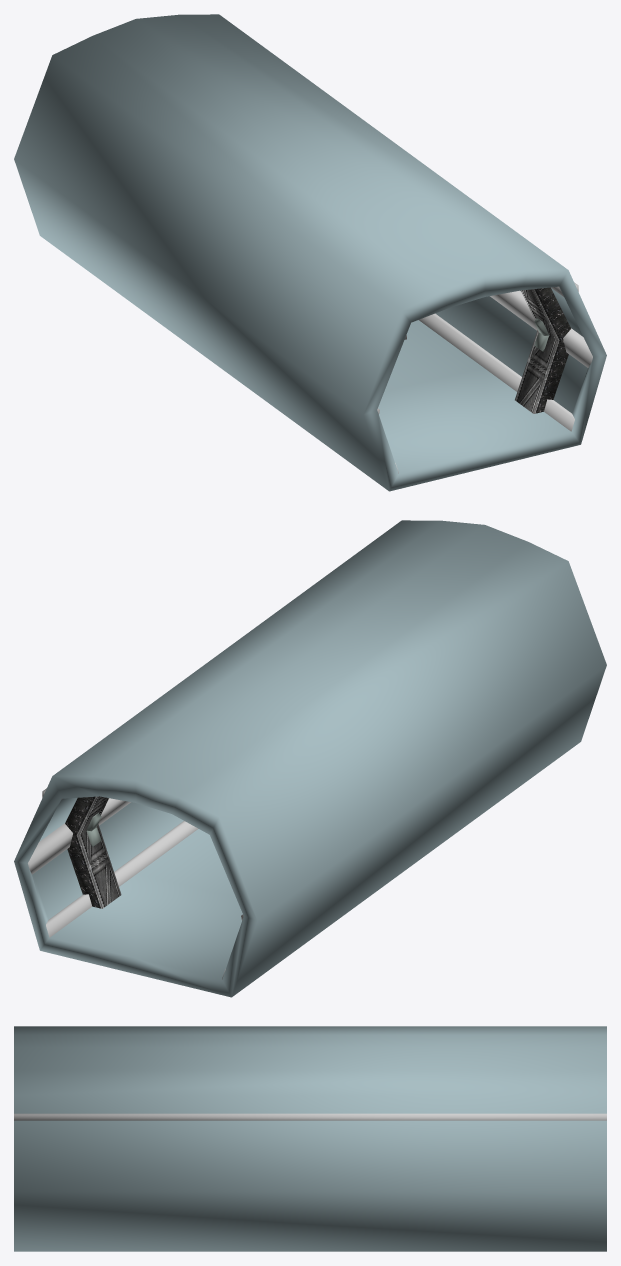
File: Corridor.fbx
3 views of the same model, one above another, from view 1: azimuth 30°, elevation 25°; view 2: azimuth 150°, elevation 25°; view 3: azimuth 270°, elevation 25° (orthographic). The views are drawn at different scales.
Visible parts, largest first — view 1: Mesh_007, Mesh_003, Mesh; view 2: Mesh_007, Mesh, Mesh_003; view 3: Mesh_007, Mesh_005.
Boxes of the visible parts, bbox=[...] form: Mesh_007: bbox=[14, 14, 606, 491]; Mesh_003: bbox=[515, 287, 570, 413]; Mesh: bbox=[377, 290, 592, 473]; Mesh_007: bbox=[14, 520, 606, 997]; Mesh: bbox=[28, 798, 243, 979]; Mesh_003: bbox=[65, 796, 121, 908]; Mesh_007: bbox=[14, 1026, 606, 1251]; Mesh_005: bbox=[14, 1113, 606, 1120].
Size of the model in its own units: 121 by 94.23 by 301.
